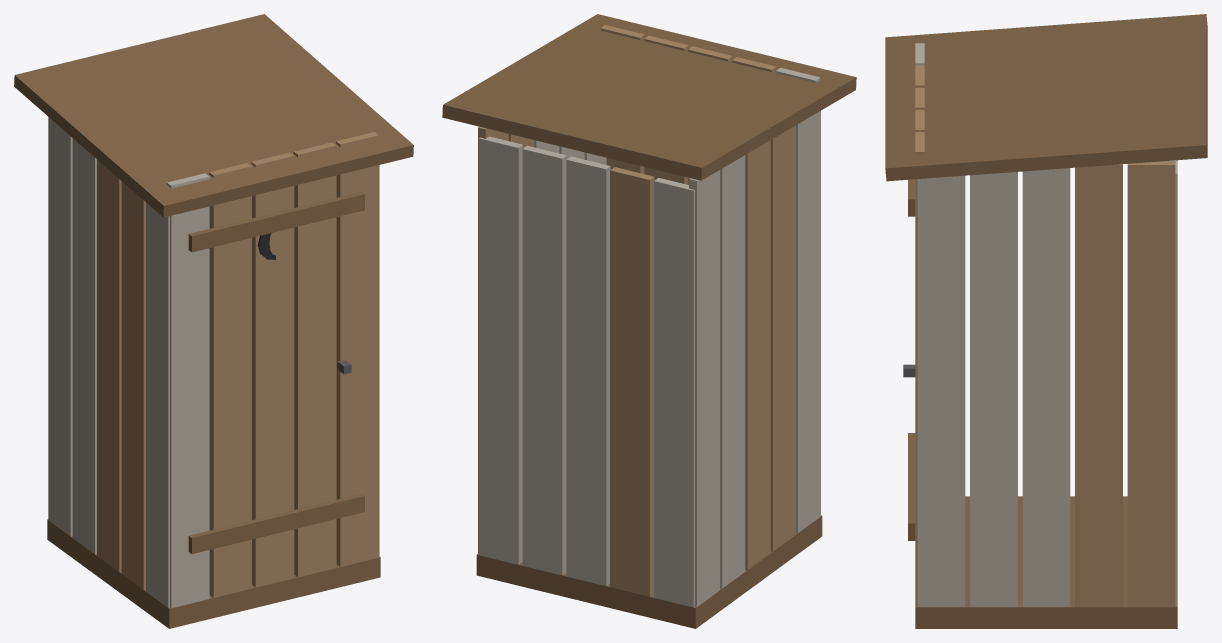
File: SM_Outhouse.glb
3 views of the same model, side by side, from view 1: azimuth 30°, elevation 25°; view 2: azimuth 150°, elevation 25°; view 3: azimuth 270°, elevation 25° (orthographic). The views are drawn at different scales.
Visible parts, largest first — view 1: SM_Outhouse; view 2: SM_Outhouse; view 3: SM_Outhouse.
Part boxes in pixels (x1,y1,x2,y2): SM_Outhouse: (14, 14, 413, 628); SM_Outhouse: (442, 14, 856, 628); SM_Outhouse: (885, 14, 1207, 628).
Size of the model in its own units: 1.3 by 2.28 by 1.35.
